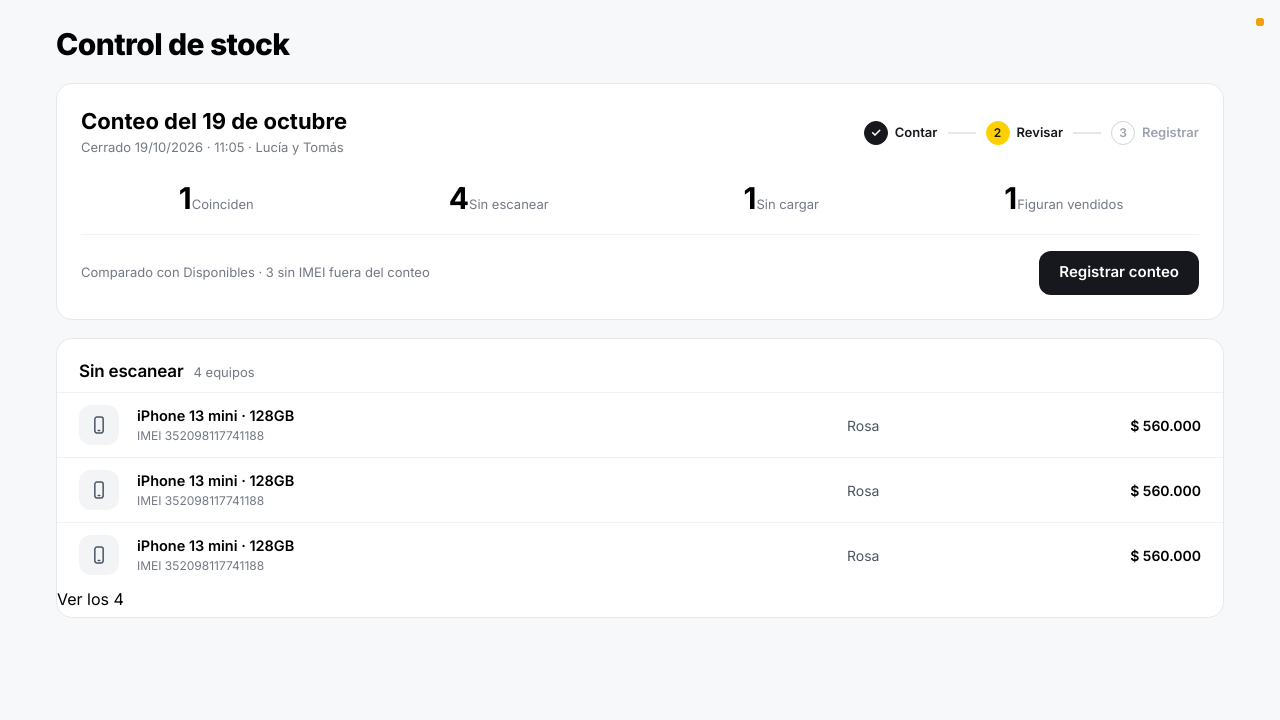
Scenario: control de stock #318 › ofrece ver todos solo si hay más de tres equipos: 4
Expected: the number of elements with class "stock-line" is 3, x1=57 y1=392 x2=1223 y2=457; x1=57 y1=457 x2=1223 y2=522; x1=57 y1=522 x2=1223 y2=587
Click the button "Ver los 4".
click(90, 599)  # box x1=57 y1=587 x2=124 y2=611
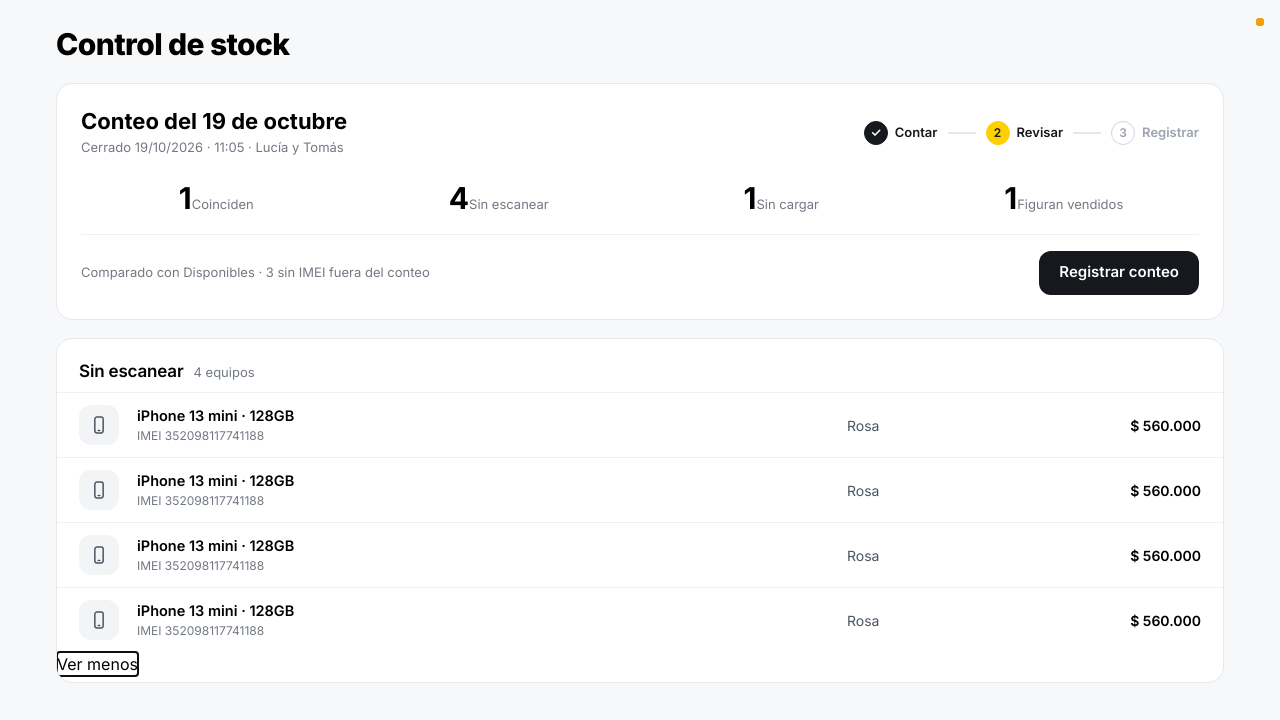
Now the number of elements with class "stock-line" is 4, box x1=57 y1=392 x2=1223 y2=457; x1=57 y1=457 x2=1223 y2=522; x1=57 y1=522 x2=1223 y2=587; x1=57 y1=587 x2=1223 y2=652
Click the button "Ver menos".
click(97, 664)  # box x1=57 y1=652 x2=138 y2=676
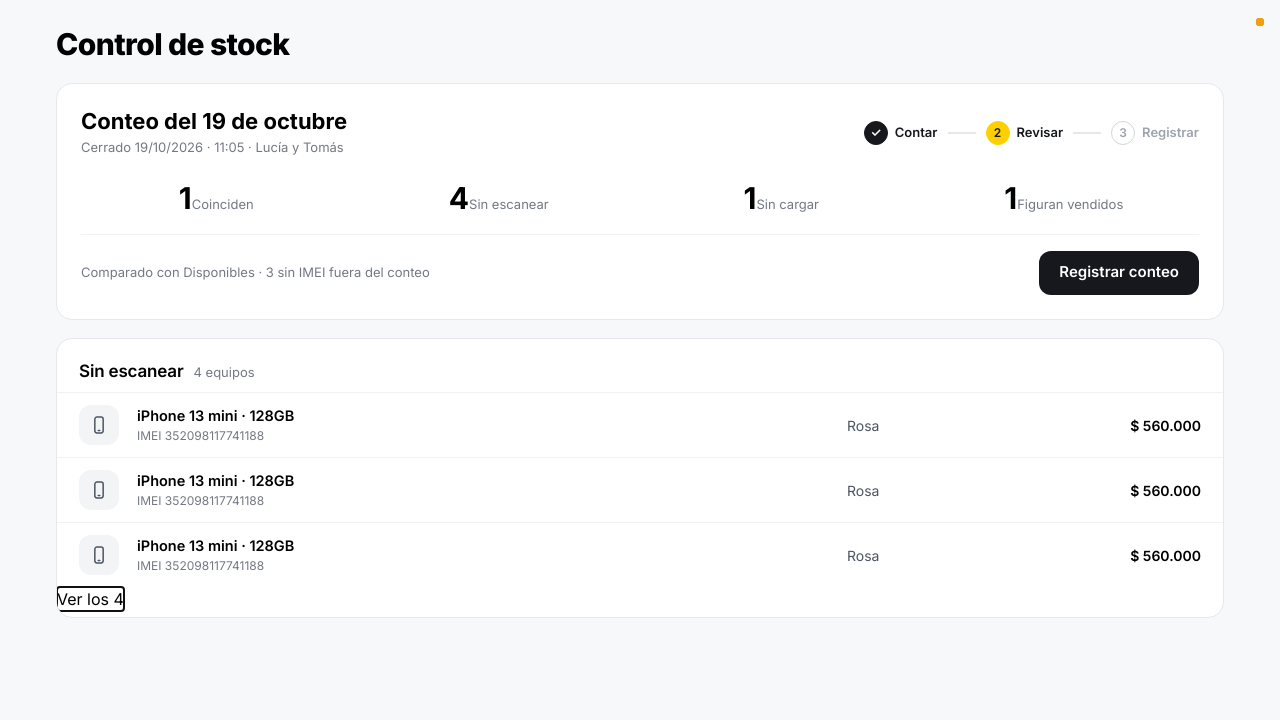
Now the number of elements with class "stock-line" is 3, box x1=57 y1=392 x2=1223 y2=457; x1=57 y1=457 x2=1223 y2=522; x1=57 y1=522 x2=1223 y2=587
